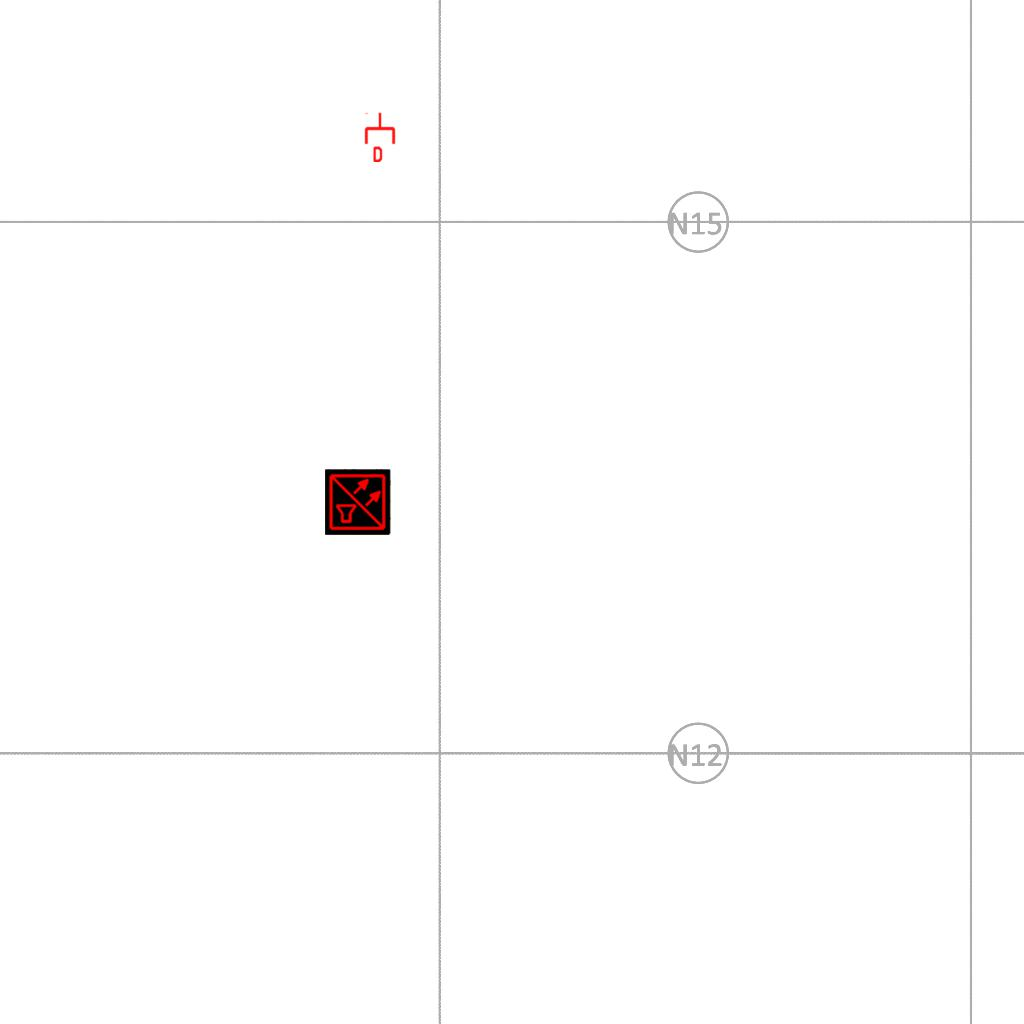Datenanschluss_einfach: (363, 112, 397, 162)
OKW_Multisensormelder_(Kombination_optischer_Rauch-Kahlenmonoxid_Waerme-Melder): (325, 469, 391, 535)
